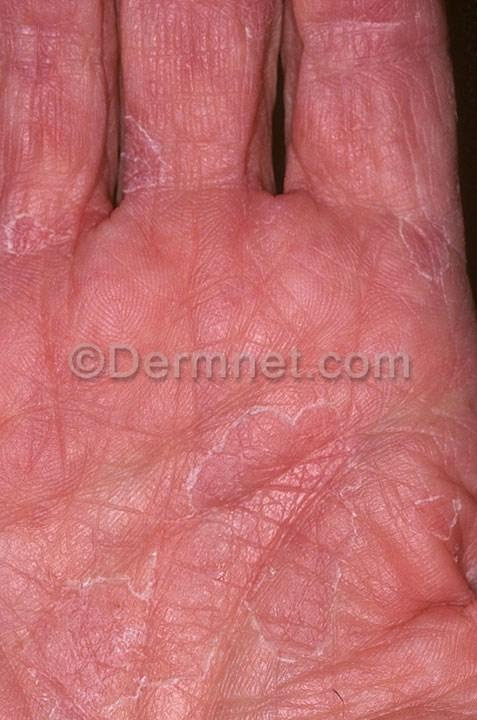Eczema: (0, 406, 243, 720), (251, 391, 477, 720), (295, 0, 457, 209), (152, 200, 368, 340), (119, 0, 262, 194), (0, 4, 115, 195), (0, 210, 152, 334), (363, 209, 477, 365)
